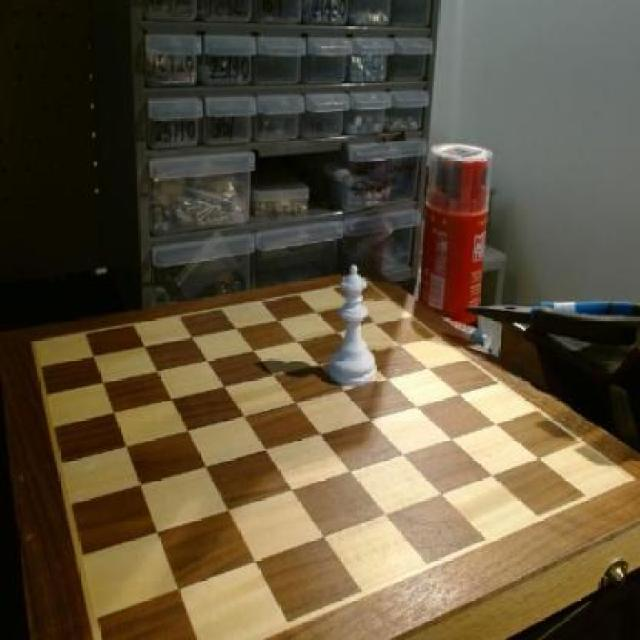white-pawn: (331, 263, 377, 390)
